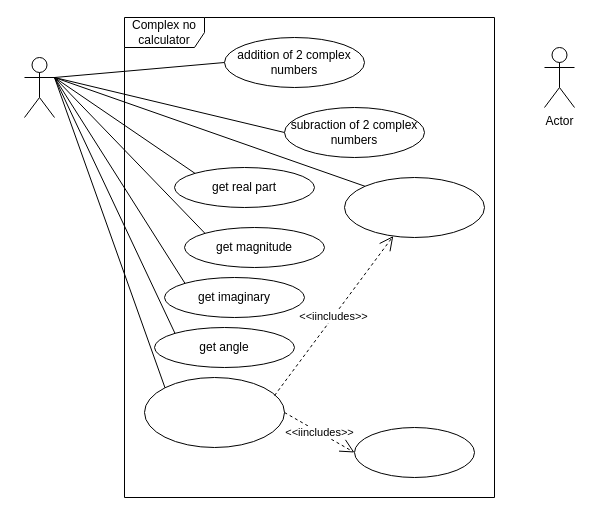
This 592x515 diagram has some shape labels left out. The centre of each missing label's shape, as x and y in pixels:
"conjugate" goes at point 414,452.
"division of 2 complex numbers" goes at point 214,412.
"multiplication of 2 complex numbers" goes at point 414,207.
"operator" goes at point 39,87.
